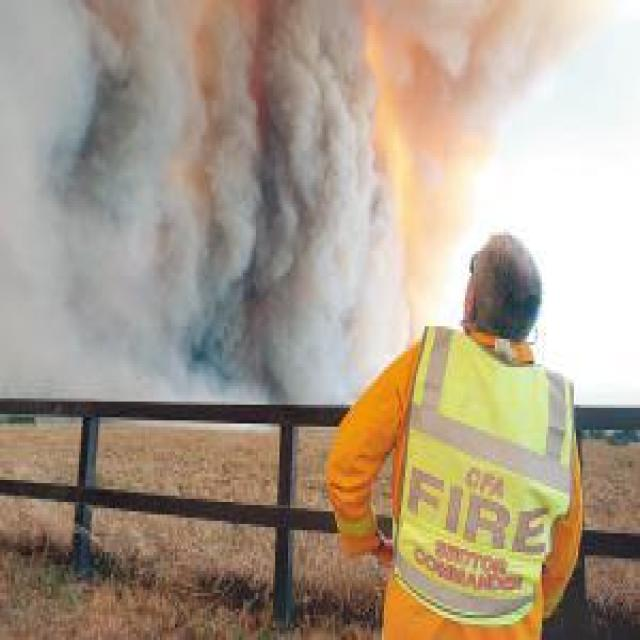fire: (362, 33, 458, 264)
other: (357, 323, 574, 626)
smoke: (7, 6, 396, 388)
